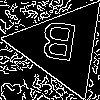B: (36, 21, 79, 71)
